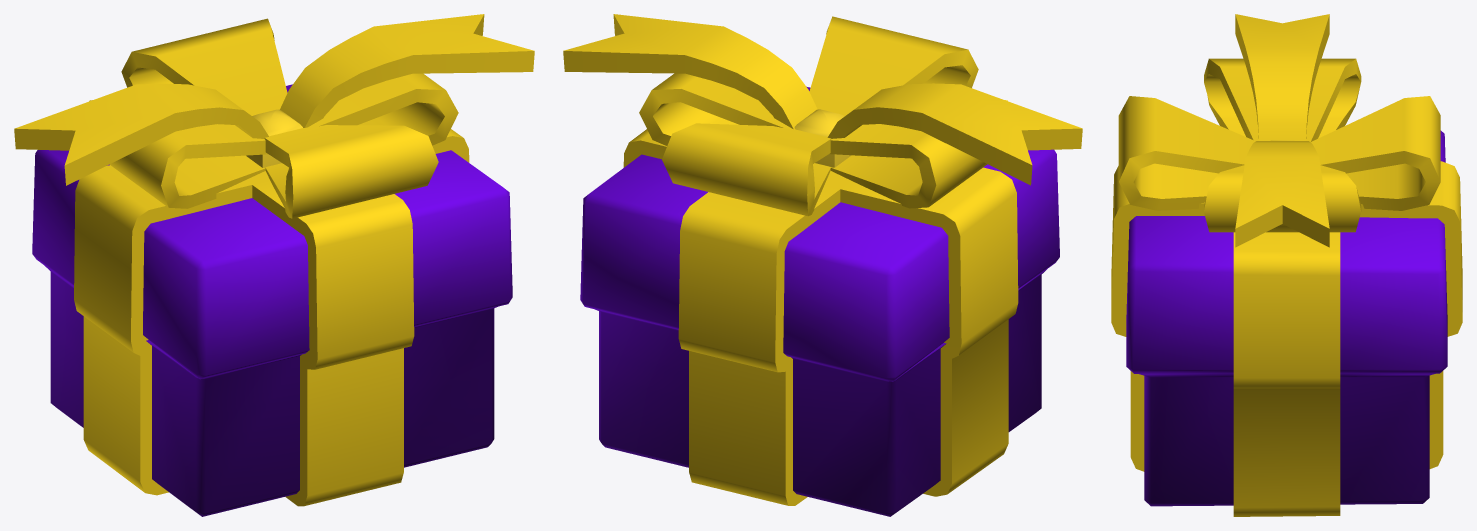
File: Collectable_Gift_Box_01.fbx
The picture shows the model from 3 angles, left to right: view 1: azimuth 30°, elevation 25°; view 2: azimuth 150°, elevation 25°; view 3: azimuth 270°, elevation 25°; orthographic projection. The views are drawn at different scales.
Parts seen in each view (by area): view 1: Collectable_Gift_Box_01; view 2: Collectable_Gift_Box_01; view 3: Collectable_Gift_Box_01.
Part boxes in pixels (x1,y1,x2,y2): Collectable_Gift_Box_01: (14,14,534,516); Collectable_Gift_Box_01: (563,14,1082,516); Collectable_Gift_Box_01: (1111,14,1462,516).
Bounding box in the file's own units: 104 × 78.38 × 71.65.
1 material, 1 textured.
